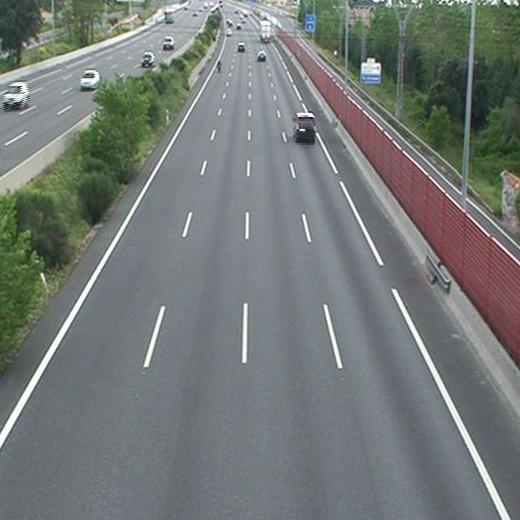car: (255, 52, 266, 61), (237, 42, 246, 53)
motorcycle: (216, 58, 223, 74)
truck: (260, 20, 272, 43)
van: (295, 113, 316, 139)
